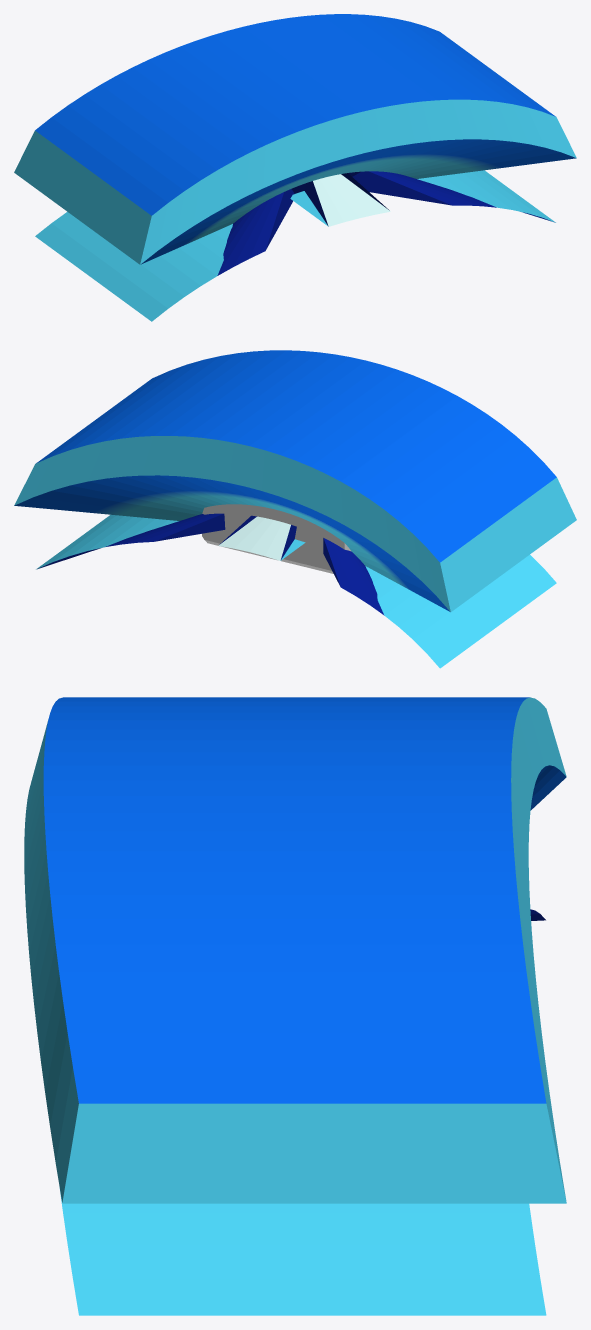
3 views of the same model, one above another, from view 1: azimuth 30°, elevation 25°; view 2: azimuth 150°, elevation 25°; view 3: azimuth 270°, elevation 25° (orthographic). The views are drawn at different scales.
Visible parts, largest first — view 1: Paddle; view 2: Paddle, Brick; view 3: Paddle.
Boxes of the visible parts, <box> form: Paddle: <box>14,14,576,321</box>; Paddle: <box>14,350,576,668</box>; Brick: <box>202,504,351,573</box>; Paddle: <box>24,697,566,1315</box>.
Bounding box in the file's own units: 4.32 × 1.58 × 2.32.
